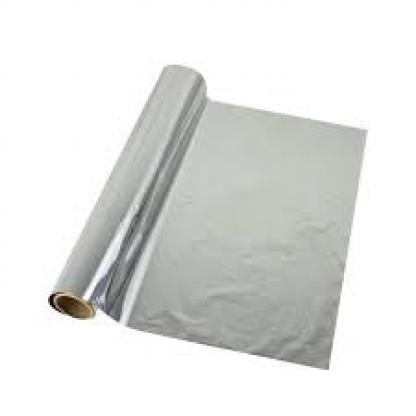METAL: (48, 63, 366, 366)
